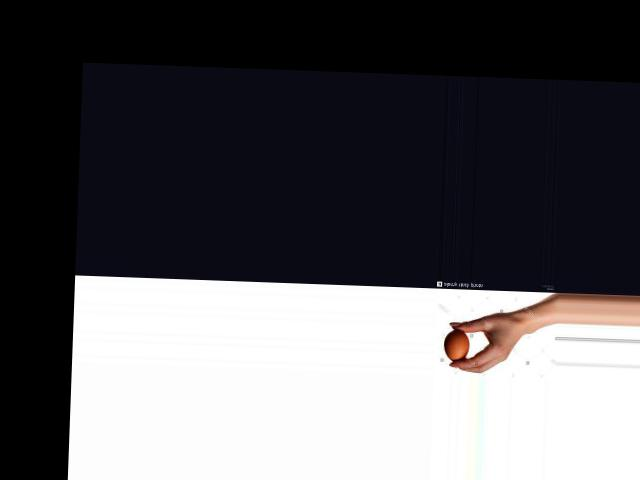egg: (443, 328, 471, 361)
